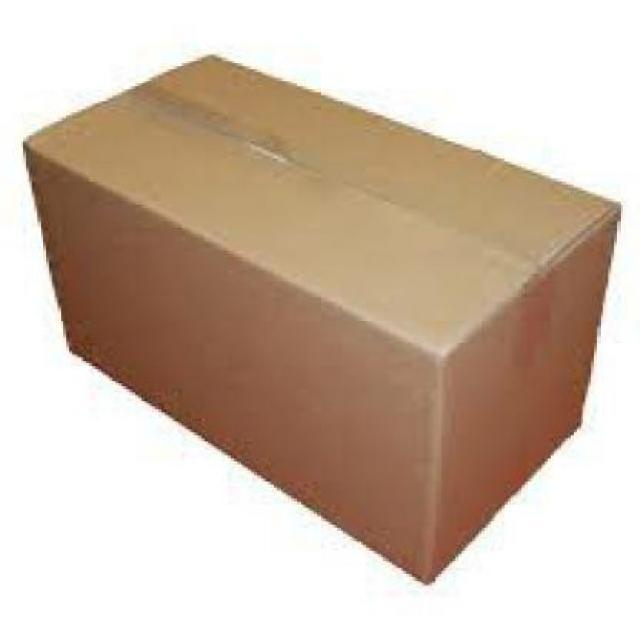box: (20, 43, 629, 588)
